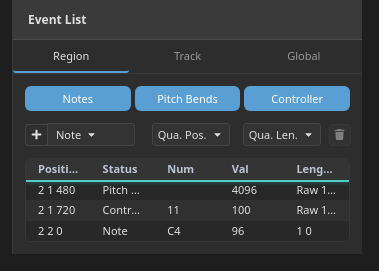
Scenario: EventListPanel › hides the playhead when filters leave no visible rows
Step 1. Click the button "Notes" → (78, 98), box 25,86 -> 131,111
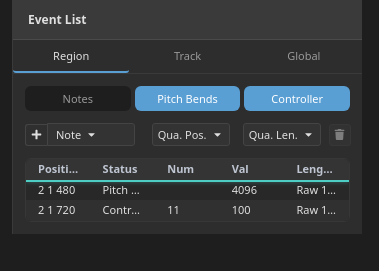
Step 2. Click the button "Pitch Bends" → (188, 98), box 135,86 -> 240,111
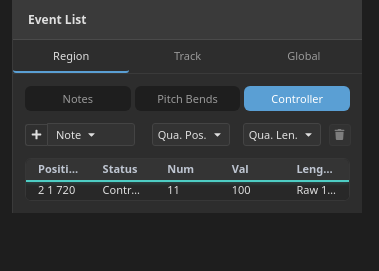
Step 3. Click the button "Controller" → (297, 98), box 244,86 -> 350,111
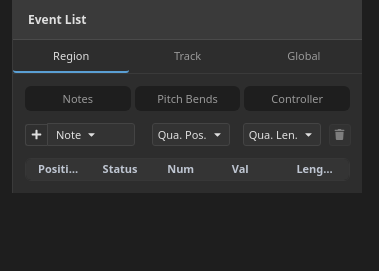
Expected: the element with test id "event-list-playhead" is gone
